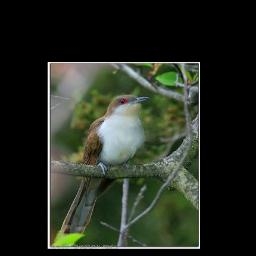Cuckoo: (56, 93, 151, 245)
